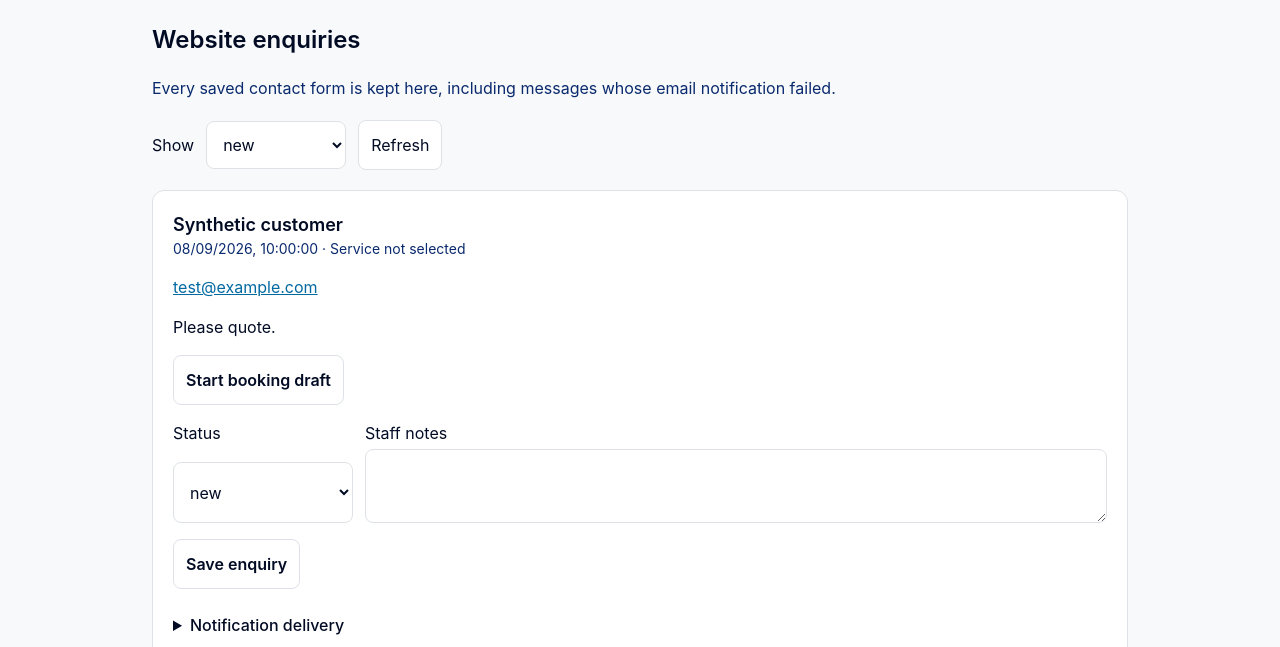
it: CRM enquiry editing and delivery recovery › requires a destination check before retrying a delivery
Later steps or results of the test are not shown.
Expected: the heading "Synthetic customer" is shown, [173,214,343,235]
Click the heading "Notification delivery" at (267, 625), box [190,615,344,635]
(page scrolled)
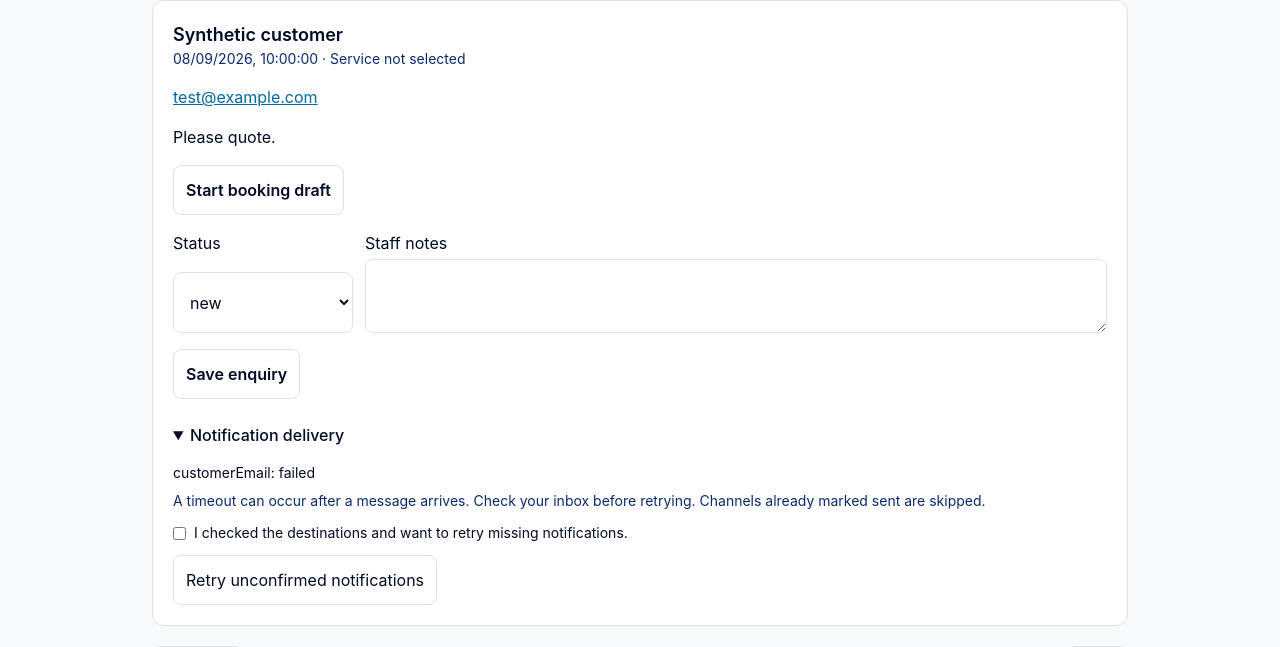
Result: the button "Retry unconfirmed notifications" is disabled at [173,555,437,605]
